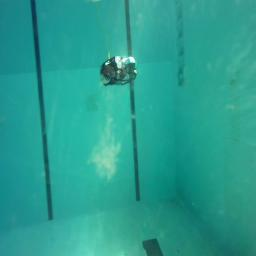front: (100, 55, 138, 86)
